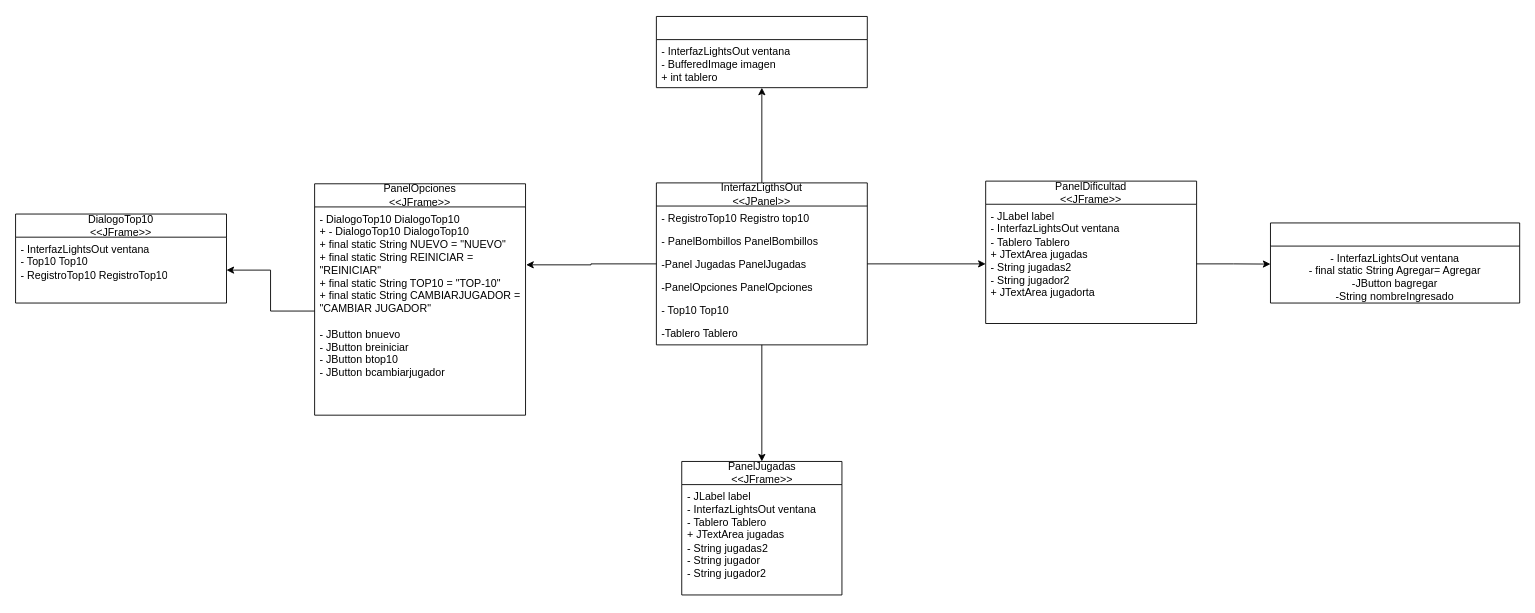
Image size: 1535x613. Some labels were removed from this diagram. Here are the shapes that lost their labels. From the top down, the box of each, then its label:
(655, 16, 867, 88): PanelBombillos <<JFrame>>
(1270, 222, 1520, 303): DialogoFinal <<JFrame>>
